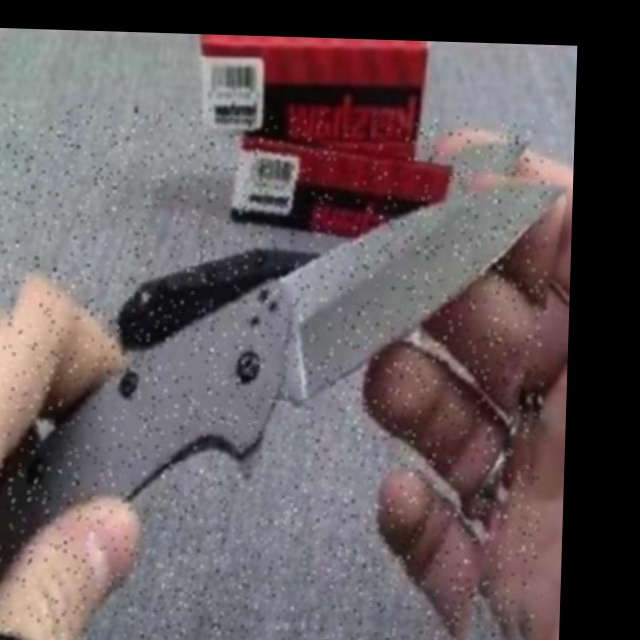Sharp-Object: (0, 102, 553, 640)
